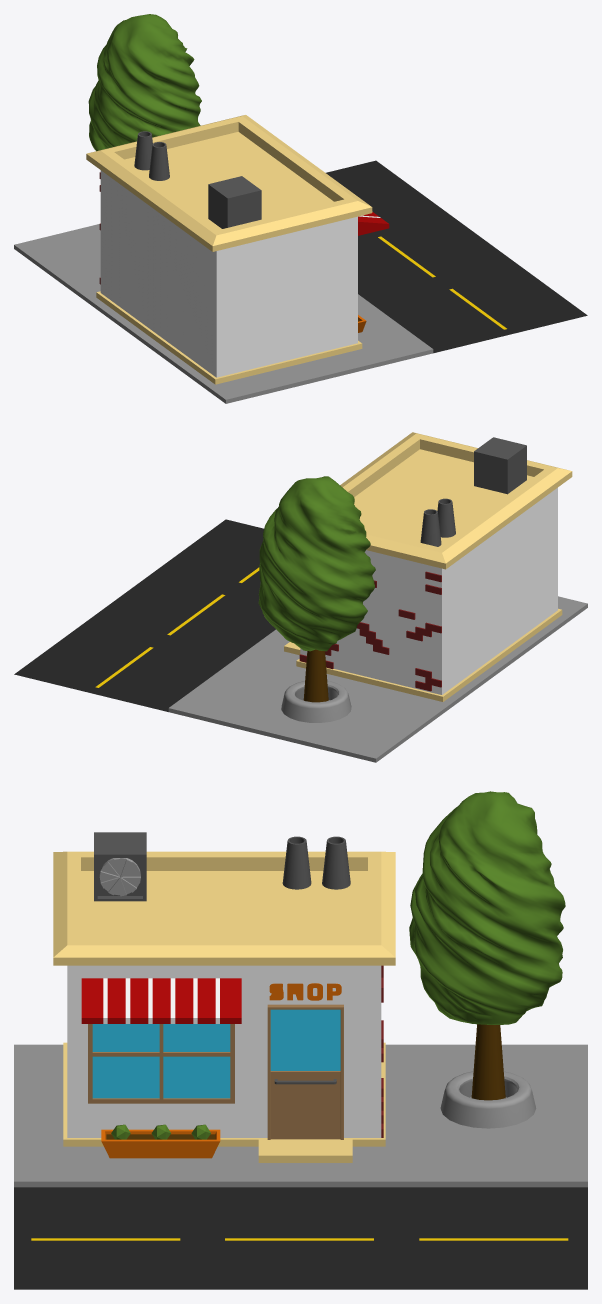
The model's file is Shop_Final.fbx.
The picture shows the model from 3 angles, top to bottom: view 1: azimuth 30°, elevation 25°; view 2: azimuth 150°, elevation 25°; view 3: azimuth 270°, elevation 25°; orthographic projection. The views are drawn at different scales.
Visible parts, largest first — view 1: pCube2, pCube1, pCube8, pCube9, pCylinder3, pCylinder2, pCube6; view 2: pCube1, pCube2, pCube8, pCube9, pPipe1, pCylinder1, pCylinder2, pCylinder3; view 3: pCube1, pCube2, pCube8, pCube3, pCube4, pCube6, pPipe1, pCube7, pCube9, pCylinder1, pCylinder4, pCylinder2 (+2 smaller).
Boxes of the visible parts, x1=… form: pCube2: x1=86, y1=115, x2=372, y2=384; pCube1: x1=14, y1=160, x2=587, y2=403; pCube8: x1=88, y1=14, x2=201, y2=151; pCube9: x1=208, y1=176, x2=261, y2=228; pCylinder3: x1=149, y1=142, x2=169, y2=180; pCylinder2: x1=134, y1=131, x2=152, y2=170; pCube6: x1=358, y1=212, x2=389, y2=235; pCube1: x1=14, y1=519, x2=587, y2=762; pCube2: x1=284, y1=432, x2=572, y2=701; pCube8: x1=258, y1=476, x2=375, y2=651; pCube9: x1=474, y1=437, x2=526, y2=494; pPipe1: x1=281, y1=681, x2=351, y2=722; pCylinder1: x1=303, y1=649, x2=328, y2=702; pCylinder2: x1=420, y1=509, x2=441, y2=546; pCylinder3: x1=437, y1=498, x2=455, y2=537; pCube1: x1=14, y1=1044, x2=587, y2=1289; pCube2: x1=53, y1=851, x2=395, y2=1162; pCube8: x1=409, y1=791, x2=565, y2=1024; pCube3: x1=88, y1=1024, x2=234, y2=1103; pCube4: x1=267, y1=1004, x2=343, y2=1139; pCube6: x1=81, y1=978, x2=241, y2=1023; pPipe1: x1=440, y1=1071, x2=536, y2=1128; pCube7: x1=101, y1=1129, x2=220, y2=1158; pCube9: x1=94, y1=832, x2=146, y2=901; pCylinder1: x1=471, y1=1024, x2=505, y2=1100; pCylinder4: x1=99, y1=858, x2=140, y2=896; pCylinder2: x1=322, y1=836, x2=350, y2=889.
Bounding box in the file's own units: 59.6 × 37.17 × 60.41.
